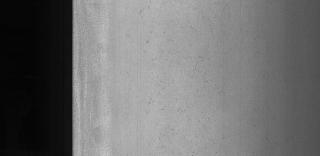silk spot: (133, 0, 224, 152)
